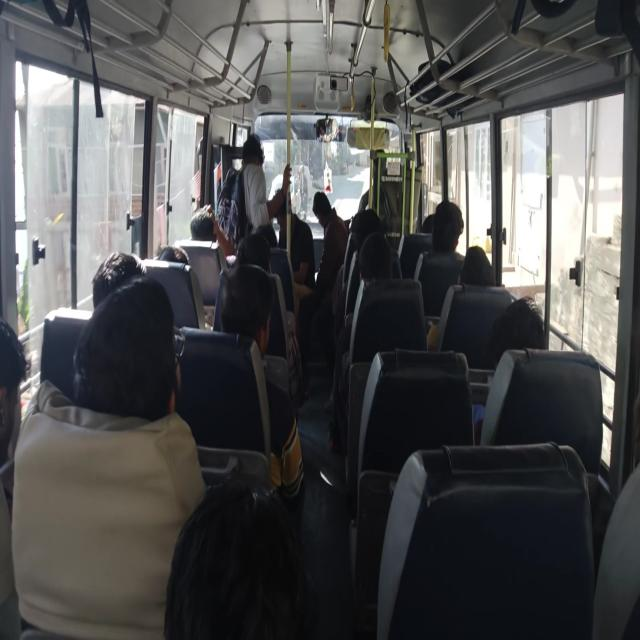person: (11, 273, 207, 638), (163, 478, 308, 639), (214, 262, 304, 507), (328, 231, 394, 451), (472, 295, 546, 444), (0, 317, 28, 638), (298, 190, 348, 350), (426, 244, 495, 350), (236, 133, 292, 245), (416, 199, 465, 317), (275, 187, 316, 300), (484, 295, 546, 369), (312, 190, 348, 292), (91, 250, 146, 309), (190, 203, 237, 260), (458, 245, 495, 286), (190, 204, 217, 241), (156, 244, 190, 264)
